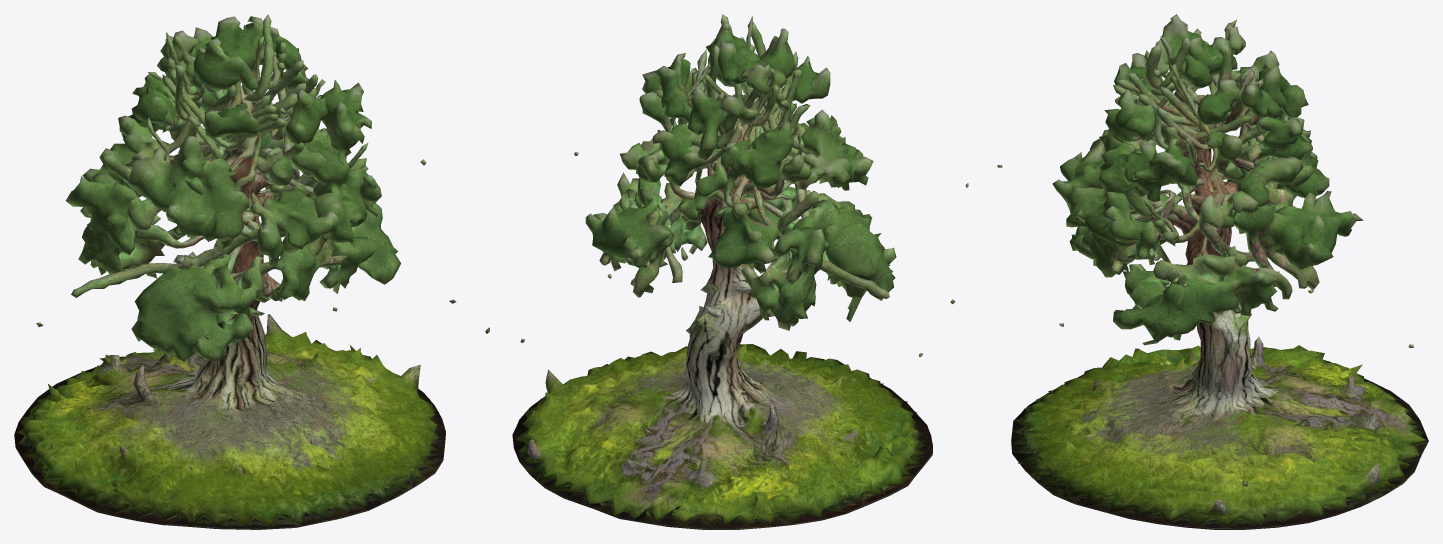
File: pine_tree.glb
3 renders of one model, left to right at view 1: azimuth 30°, elevation 25°; view 2: azimuth 150°, elevation 25°; view 3: azimuth 270°, elevation 25°, orthographic. The views are drawn at different scales.
Visible parts, largest first — view 1: Mesh_0; view 2: Mesh_0; view 3: Mesh_0.
Part boxes in pixels (x1,y1,x2,y2): Mesh_0: (14,14,456,529); Mesh_0: (485,14,968,529); Mesh_0: (997,14,1428,529).
Size of the model in its own units: 11 by 10 by 9.45.
Materials: 1 (1 with a texture image).
